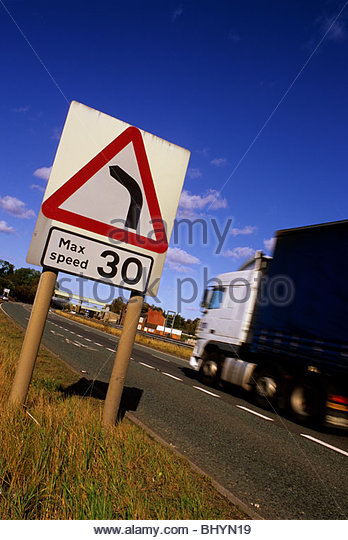Bend_to_left: (41, 126, 170, 254)
